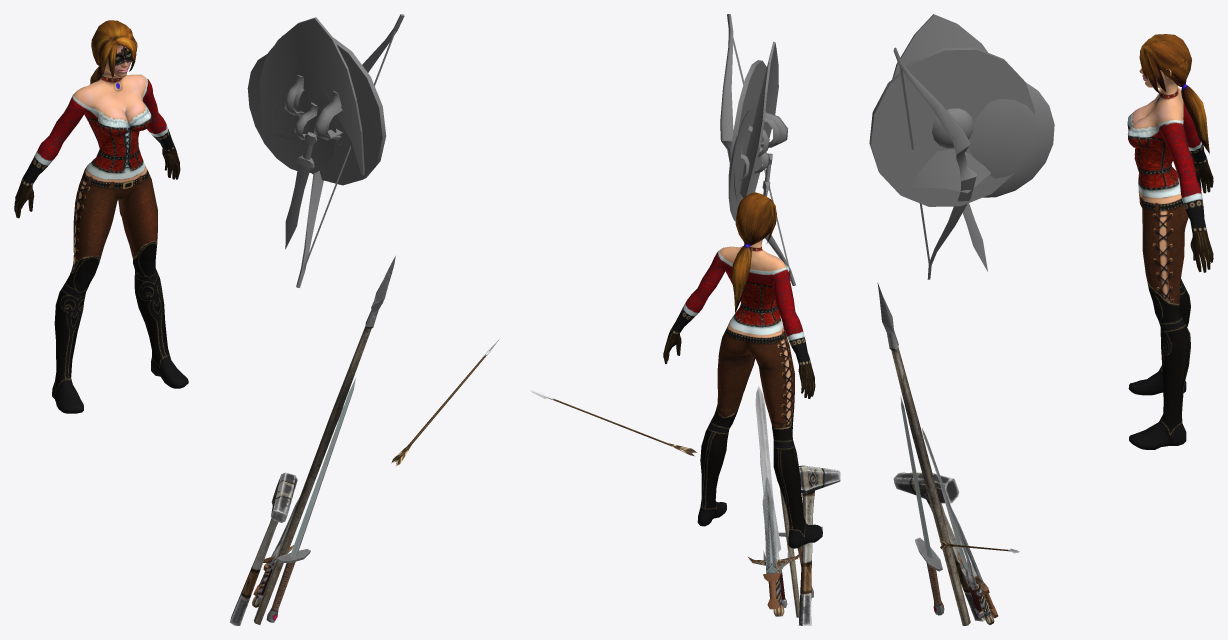
The model's file is AmazonBtzerker.fbx.
The picture shows the model from 3 angles, left to right: view 1: azimuth 30°, elevation 25°; view 2: azimuth 150°, elevation 25°; view 3: azimuth 270°, elevation 25°; orthographic projection. The views are drawn at different scales.
Visible parts, largest first — view 1: AmazonBezerker, Shield03, Shield02, Spear, Shield01, Hammer, Longsword, Bow, Gladius02; view 2: AmazonBezerker, Shield03, Hammer, Shield02, Bow, Broadsword02, Shield01, Gladius, Spear, Arrow; view 3: AmazonBezerker, Shield02, Shield01, Shield03, Spear, Bow, Hammer, Longsword, Broadsword02, Broadsword, Gladius02, Gladius.
Boxes of the visible parts, x1,y1,x2,y2 form: AmazonBezerker: (14, 20, 188, 413); Shield03: (259, 17, 364, 175); Shield02: (268, 35, 386, 185); Spear: (253, 256, 395, 624); Shield01: (247, 53, 336, 172); Hammer: (230, 472, 297, 625); Longsword: (266, 378, 355, 622); Bow: (296, 14, 404, 287); Gladius02: (285, 132, 317, 249); AmazonBezerker: (663, 192, 822, 548); Shield03: (740, 41, 787, 197); Hammer: (798, 465, 840, 625); Shield02: (730, 60, 779, 202); Bow: (720, 14, 795, 285); Broadsword02: (748, 386, 800, 616); Shield01: (728, 106, 769, 221); Gladius: (762, 477, 780, 609); Spear: (771, 425, 799, 617); Arrow: (530, 390, 696, 456); AmazonBezerker: (1127, 34, 1213, 449); Shield02: (869, 47, 1034, 206); Shield01: (969, 82, 1054, 197); Shield03: (892, 14, 991, 193); Spear: (877, 282, 970, 625); Bow: (893, 47, 976, 279); Hammer: (893, 472, 984, 621); Longsword: (900, 396, 944, 615); Broadsword02: (922, 428, 994, 624); Broadsword: (937, 472, 984, 618); Gladius02: (962, 203, 987, 271); Gladius: (952, 509, 998, 618).
Size of the model in its own units: 201 by 294 by 144.
3 materials, 3 textured.
